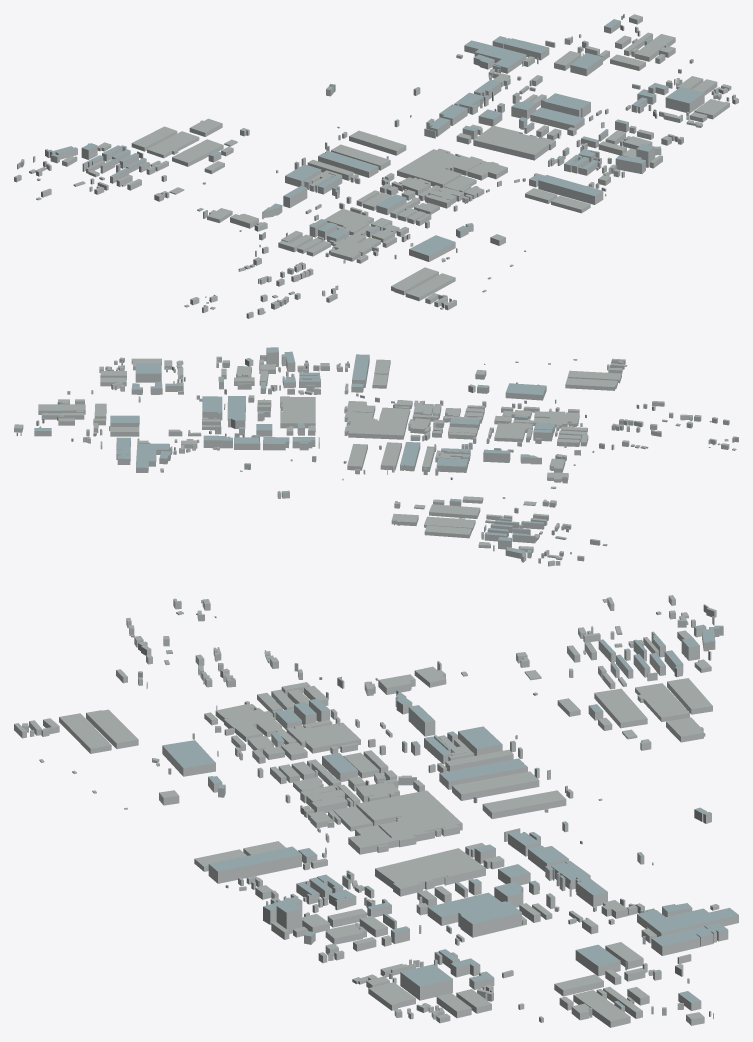
File: far.glb
3 views of the same model, one above another, from view 1: azimuth 30°, elevation 25°; view 2: azimuth 150°, elevation 25°; view 3: azimuth 270°, elevation 25° (orthographic). The views are drawn at different scales.
Size of the model in its own units: 2131 by 51.66 by 1525.
